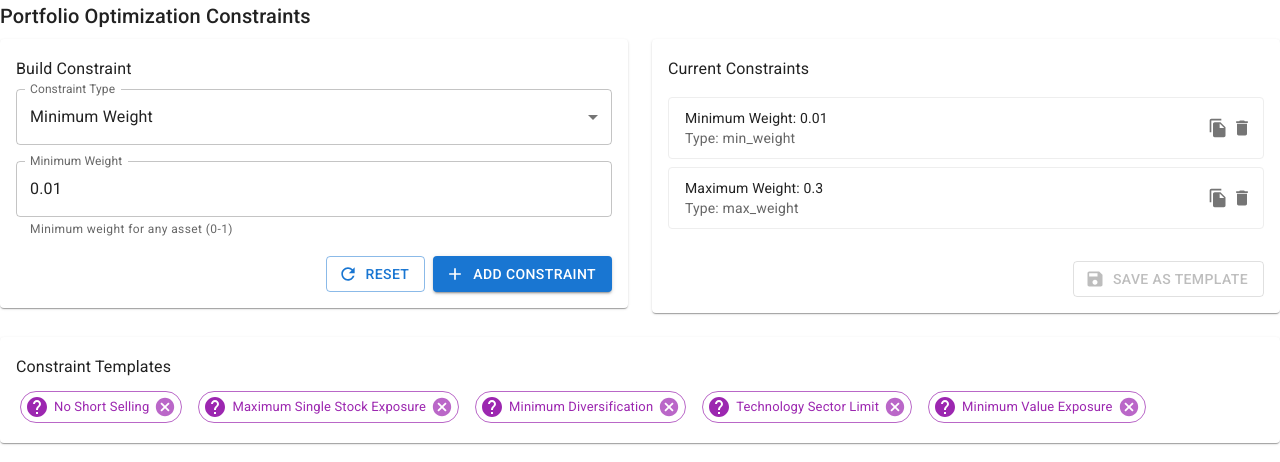
Test: OptimizationConstraintBuilder › allows editing a constraint
Note: Click on the first constraint to edit it
Click the text "Minimum Weight: 0.01" at (756,118), box [685, 110, 828, 126]
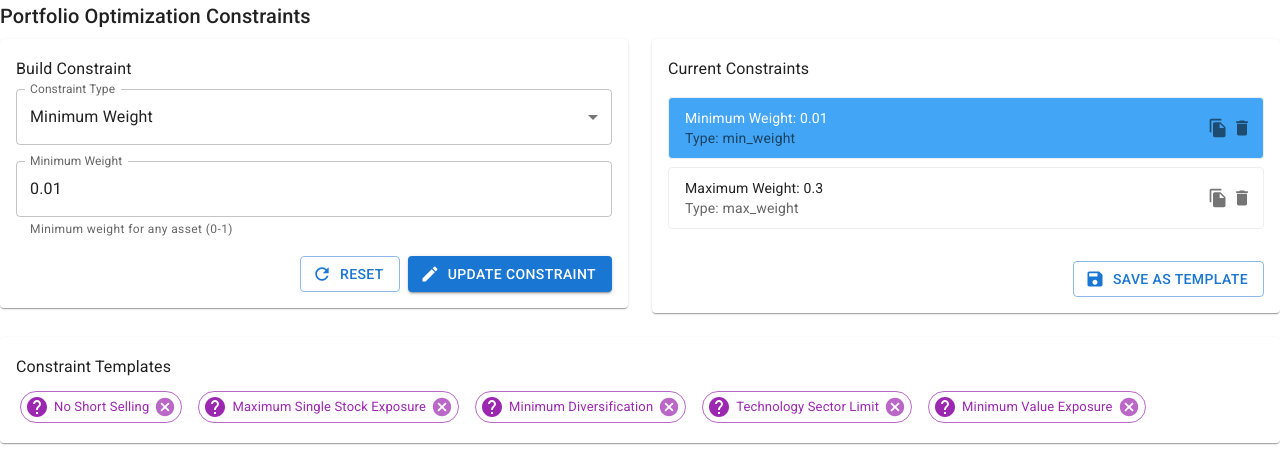
Note: Change the minimum weight value
Replace the text in the number field labelled "Minimum Weight" with "0.02" at (314,189), box [16, 161, 612, 217]
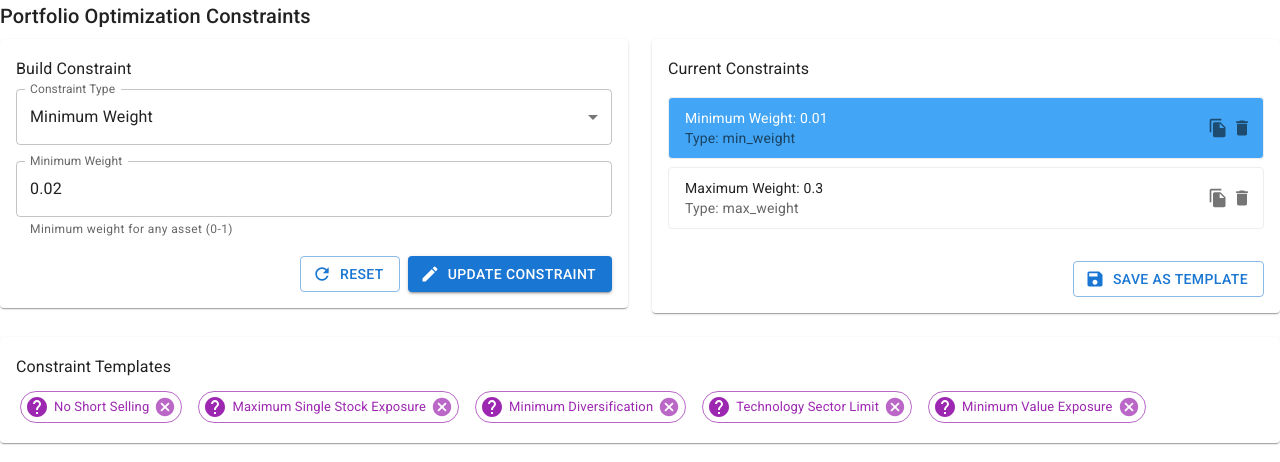
Note: Click Update button
Click the button "Update Constraint" at (510,274), box [408, 256, 612, 292]
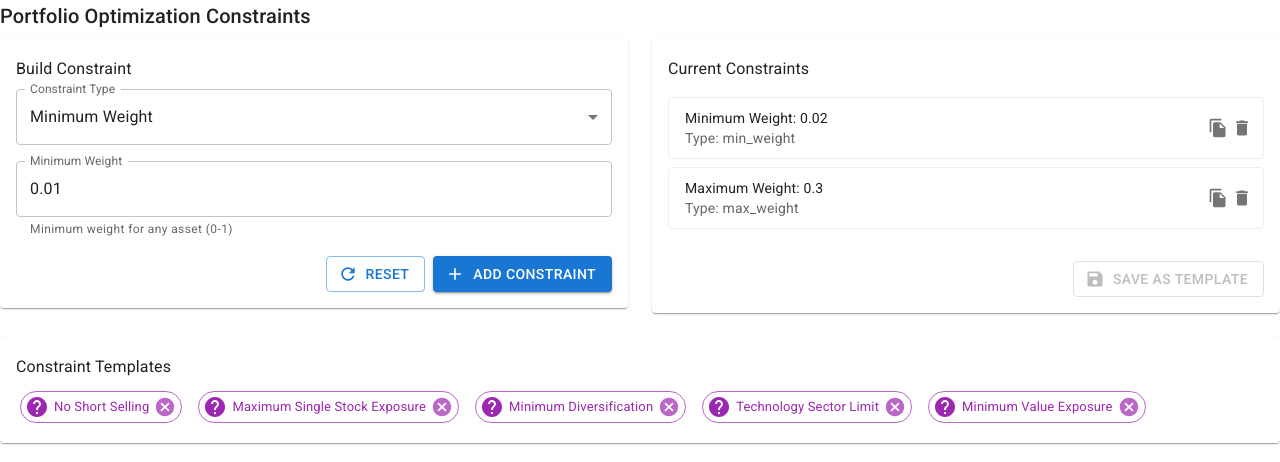
Result: the text "Minimum Weight: 0.02" is shown at [685, 110, 828, 126]
